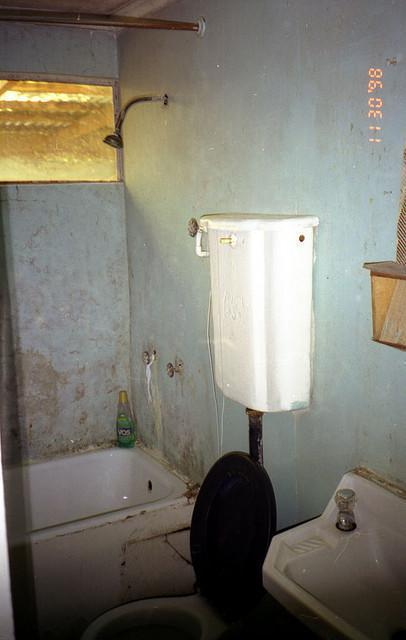Ducha: (0, 426, 206, 639)
Lavamanos: (270, 471, 405, 639)
